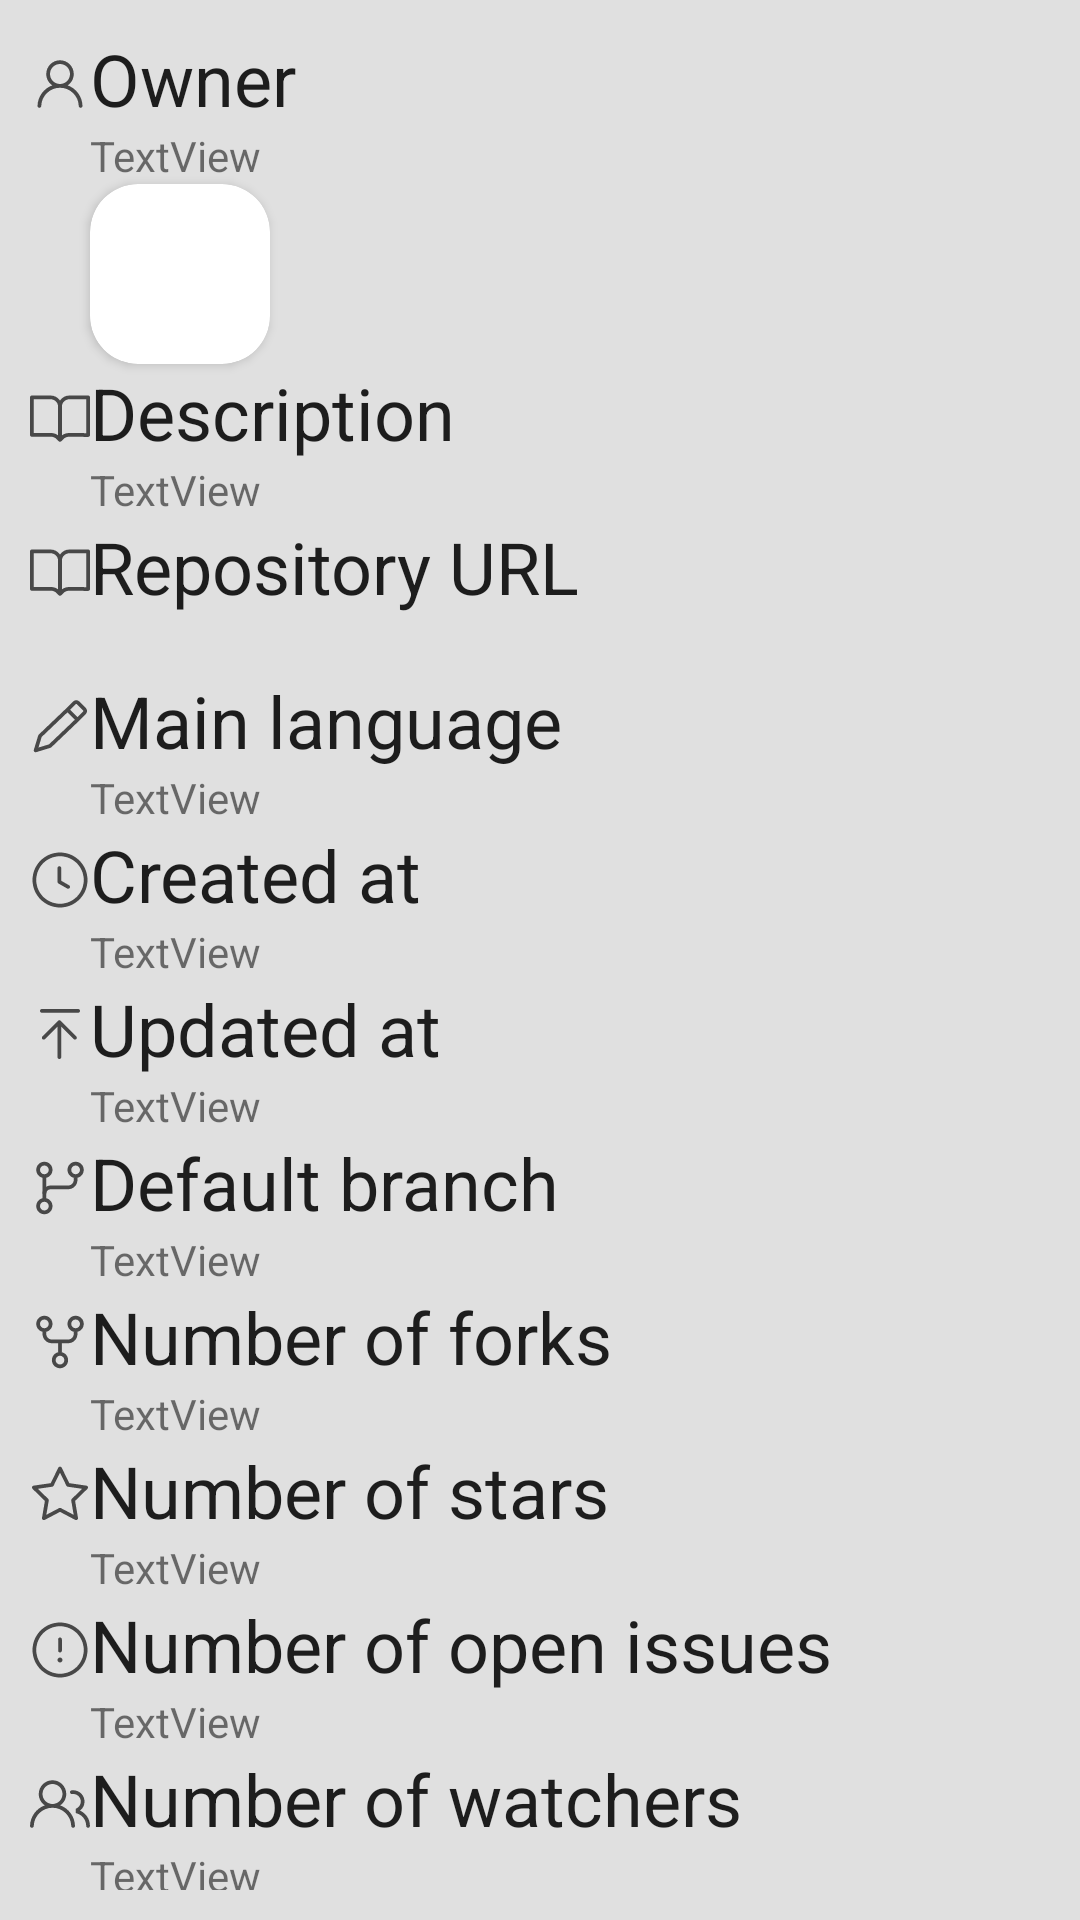

Icons on this 1080 x 1920 Android screen, each with the point to tap as (x,y):
book: (60,418), (60,572)
clock: (60,880)
git branch: (60,1188)
git fork: (60,1342)
issue opened: (60,1650)
pencil: (60,726)
people: (60,1804)
person: (60,84)
upload: (60,1034)
